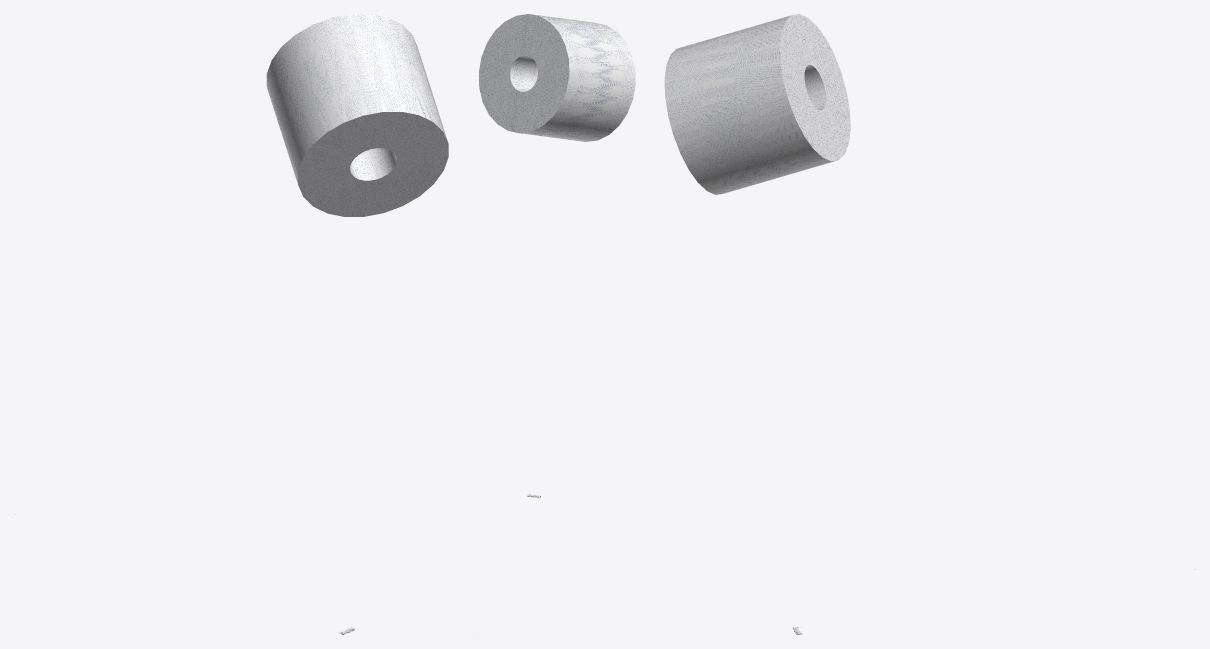
Rendered from PulpmillFacility.dae.
The picture shows the model from 3 angles, left to right: view 1: azimuth 30°, elevation 25°; view 2: azimuth 150°, elevation 25°; view 3: azimuth 270°, elevation 25°; orthographic projection. The views are drawn at different scales.
Visible parts, largest first — view 1: Toilet_Paper (×7); view 2: Toilet_Paper (×28); view 3: Toilet_Paper.
Part boxes in pixels (x1,y1,x2,y2): Toilet_Paper (×7): (266,14,448,216); Toilet_Paper (×28): (479,14,635,141); Toilet_Paper: (664,14,850,194).
Bounding box in the file's own units: 3741 × 8835 × 11180.
